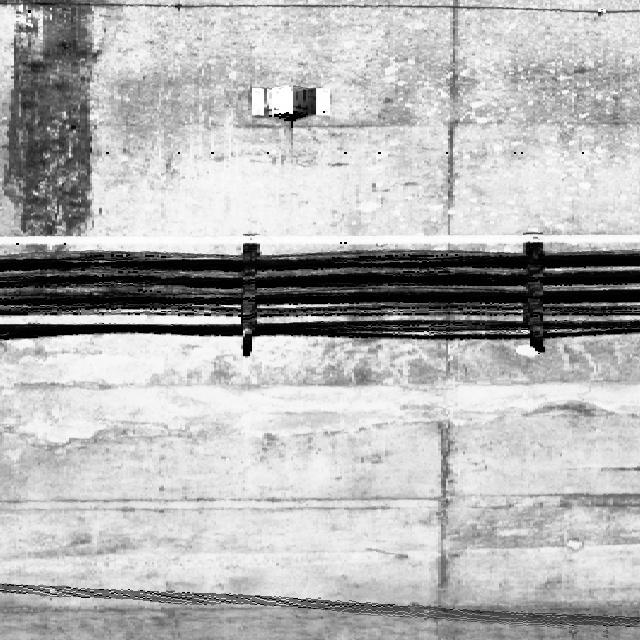leakage: (0, 0, 94, 236)
